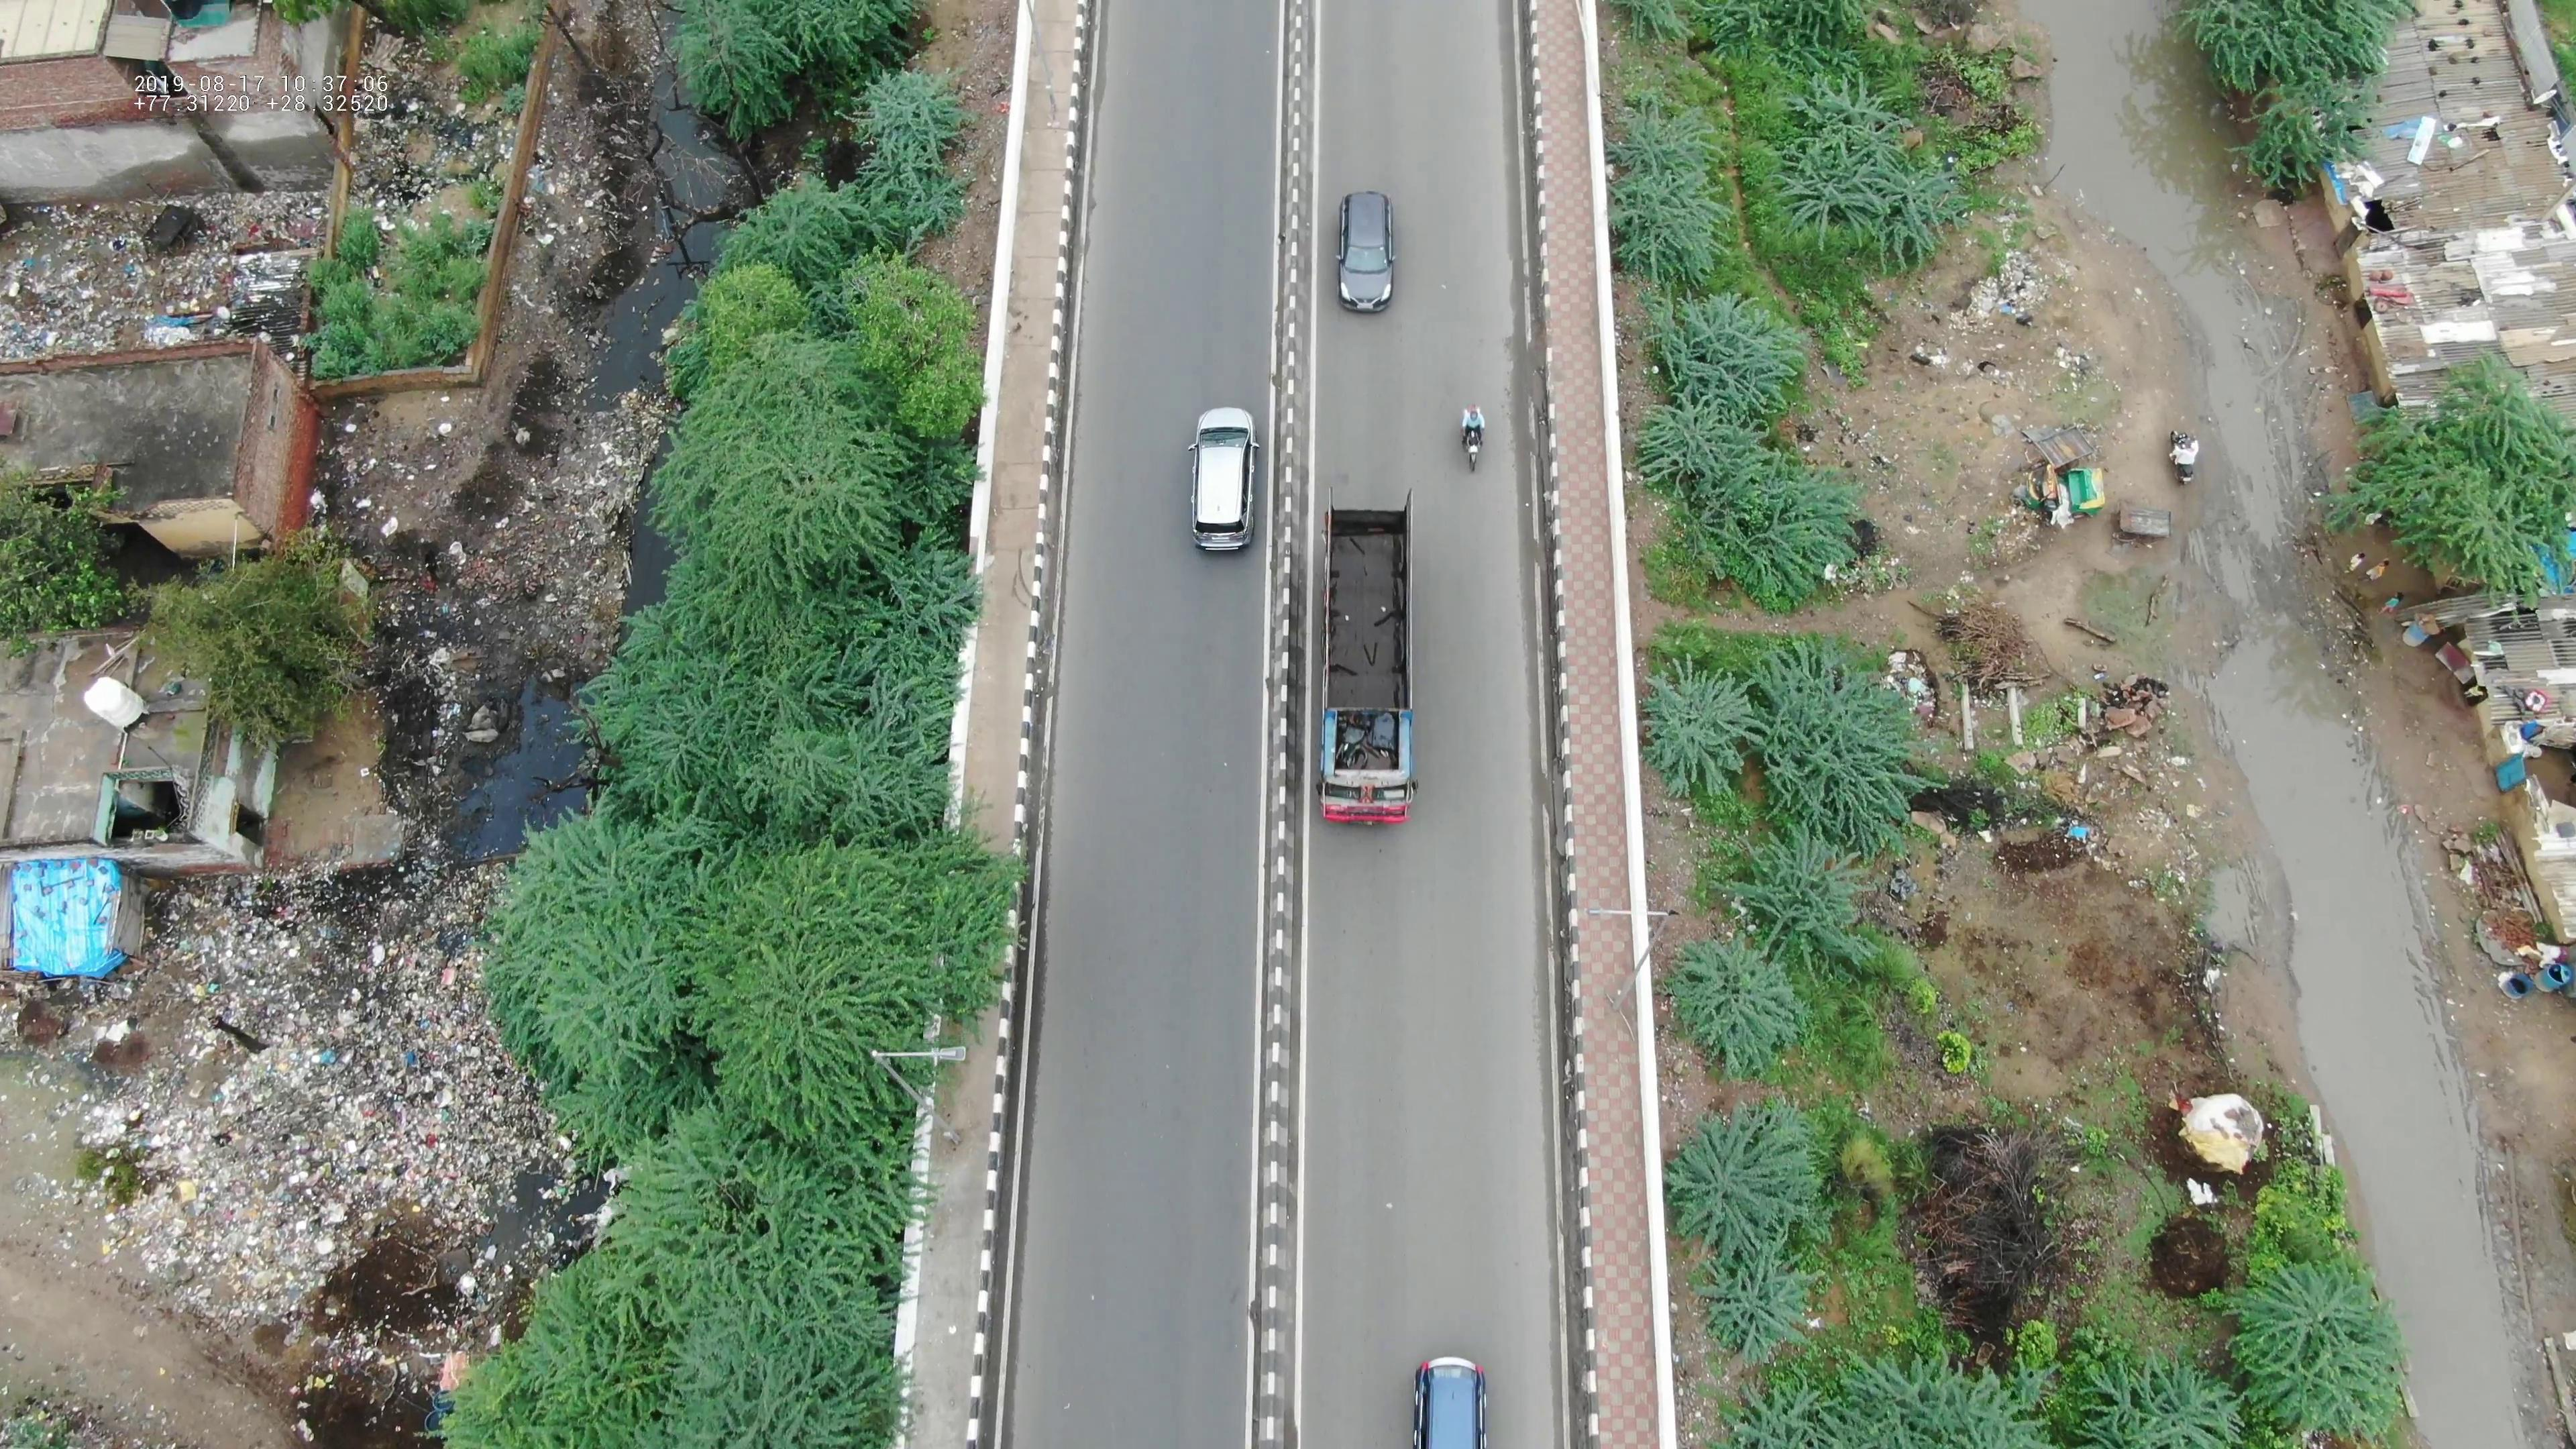Road_side_garbage: (78, 830, 566, 1244)
